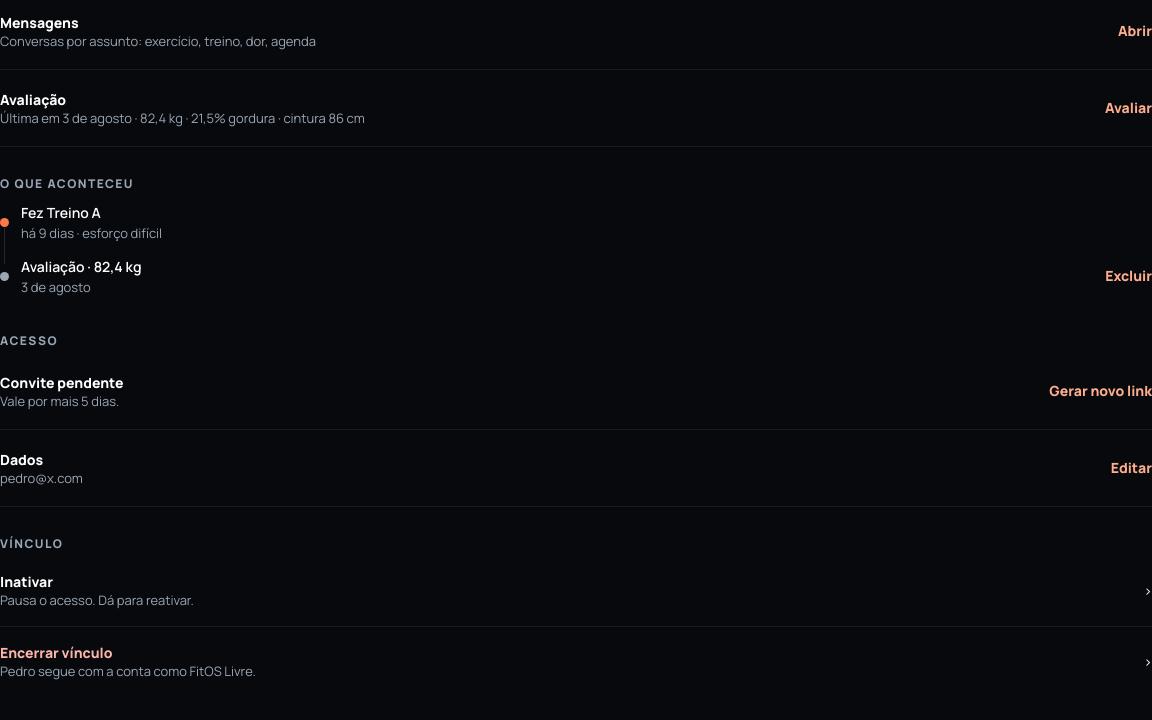
Test case: StudentProfile (FIT-145) › mostra esforço percebido, convite pendente com novo link e cancelar
The width and height of the screenshot is (1152, 720).
(page scrolled)
Expected: the text "há 9 dias · esforço difícil" is shown, top-left (21, 224), bottom-right (162, 242)
Expected: the text "Vale por mais 5 dias." is shown, top-left (0, 392), bottom-right (119, 410)
Click the button "Gerar novo link" at (1101, 391), box top-left (1049, 369), bottom-right (1151, 413)
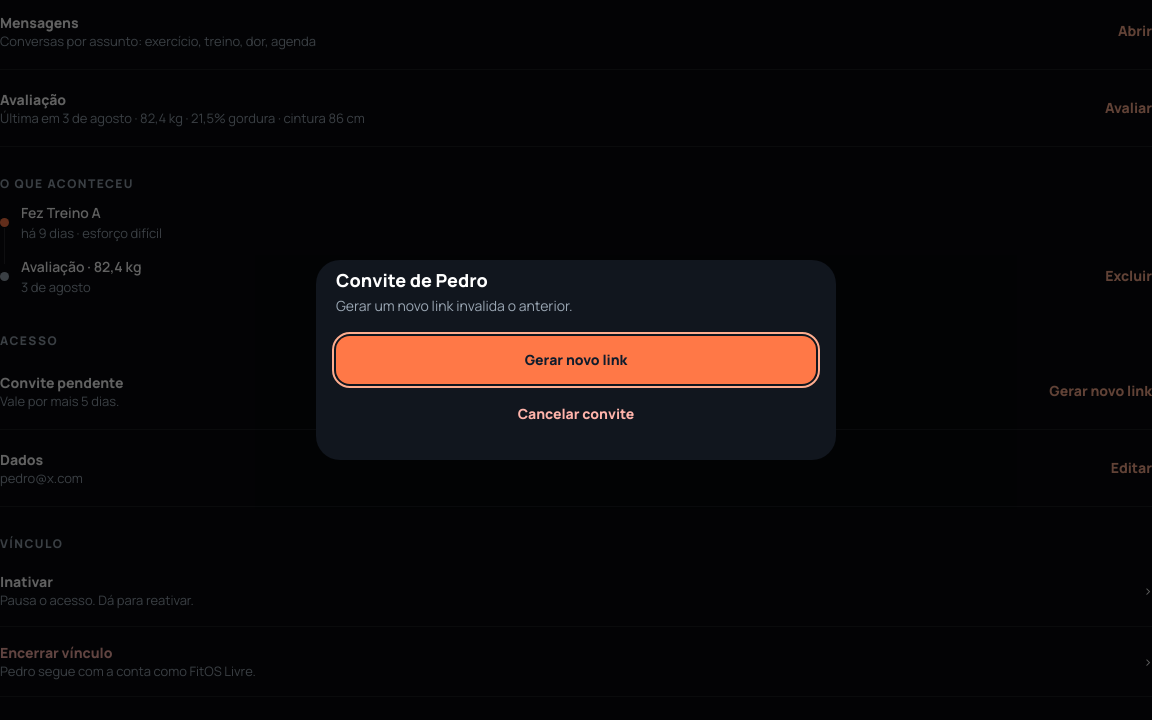
Expected: the button "Cancelar convite" is shown, top-left (336, 392), bottom-right (816, 436)
Click the button "Gerar novo link" at (576, 360), box top-left (336, 336), bottom-right (816, 384)
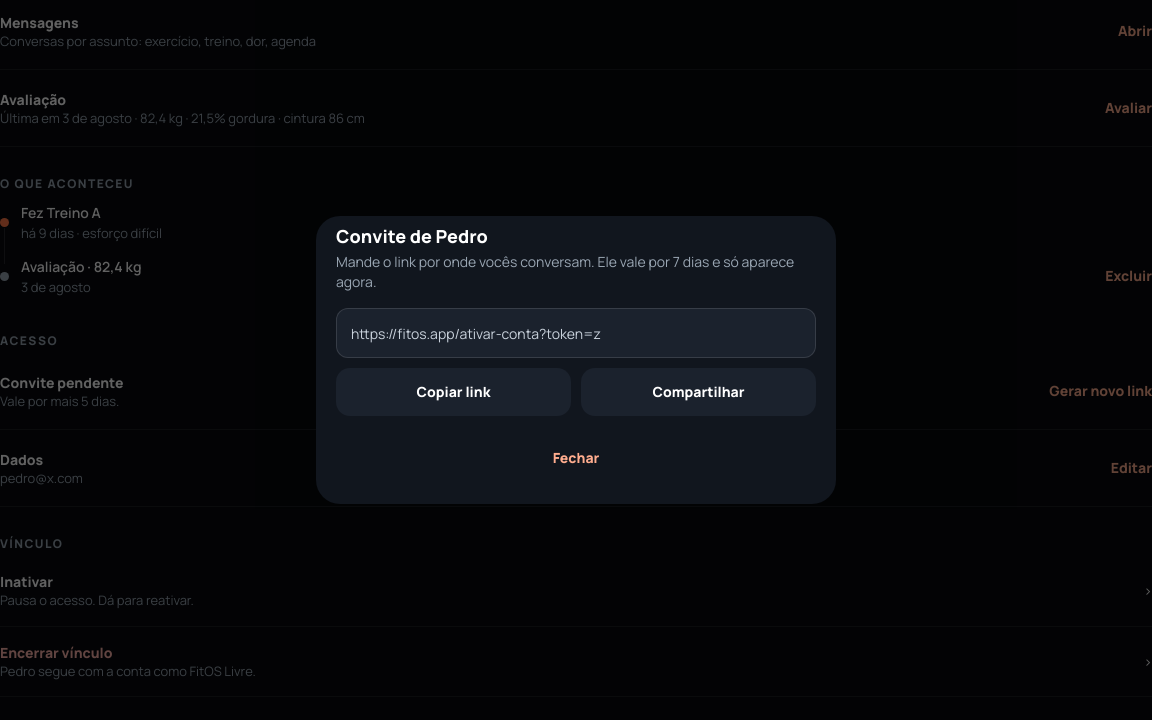
Expected: the field named "Link de ativação" holds "https://fitos.app/ativar-conta?token=z", top-left (336, 308), bottom-right (816, 358)
